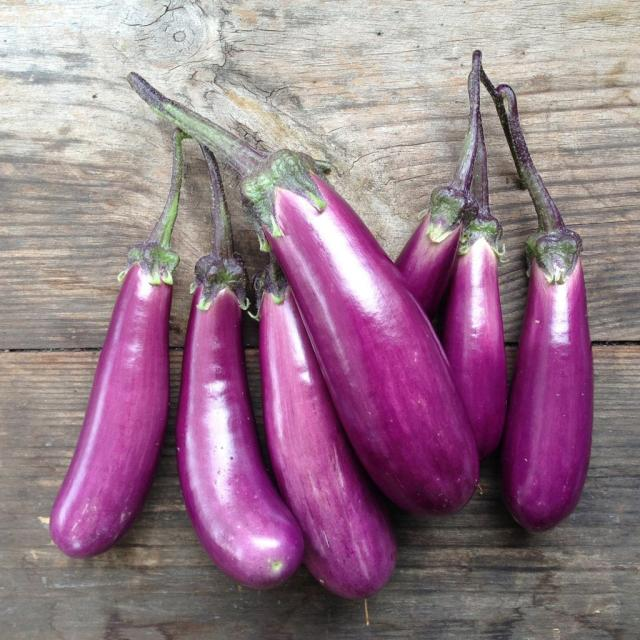Eggplant: (142, 66, 507, 516), (234, 136, 388, 608), (484, 79, 630, 517), (156, 177, 304, 594), (40, 181, 207, 546)
